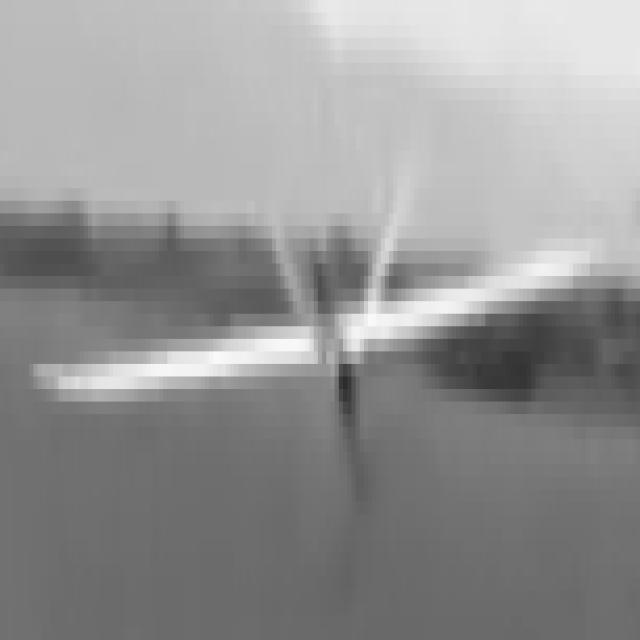iha: (62, 213, 589, 402)
